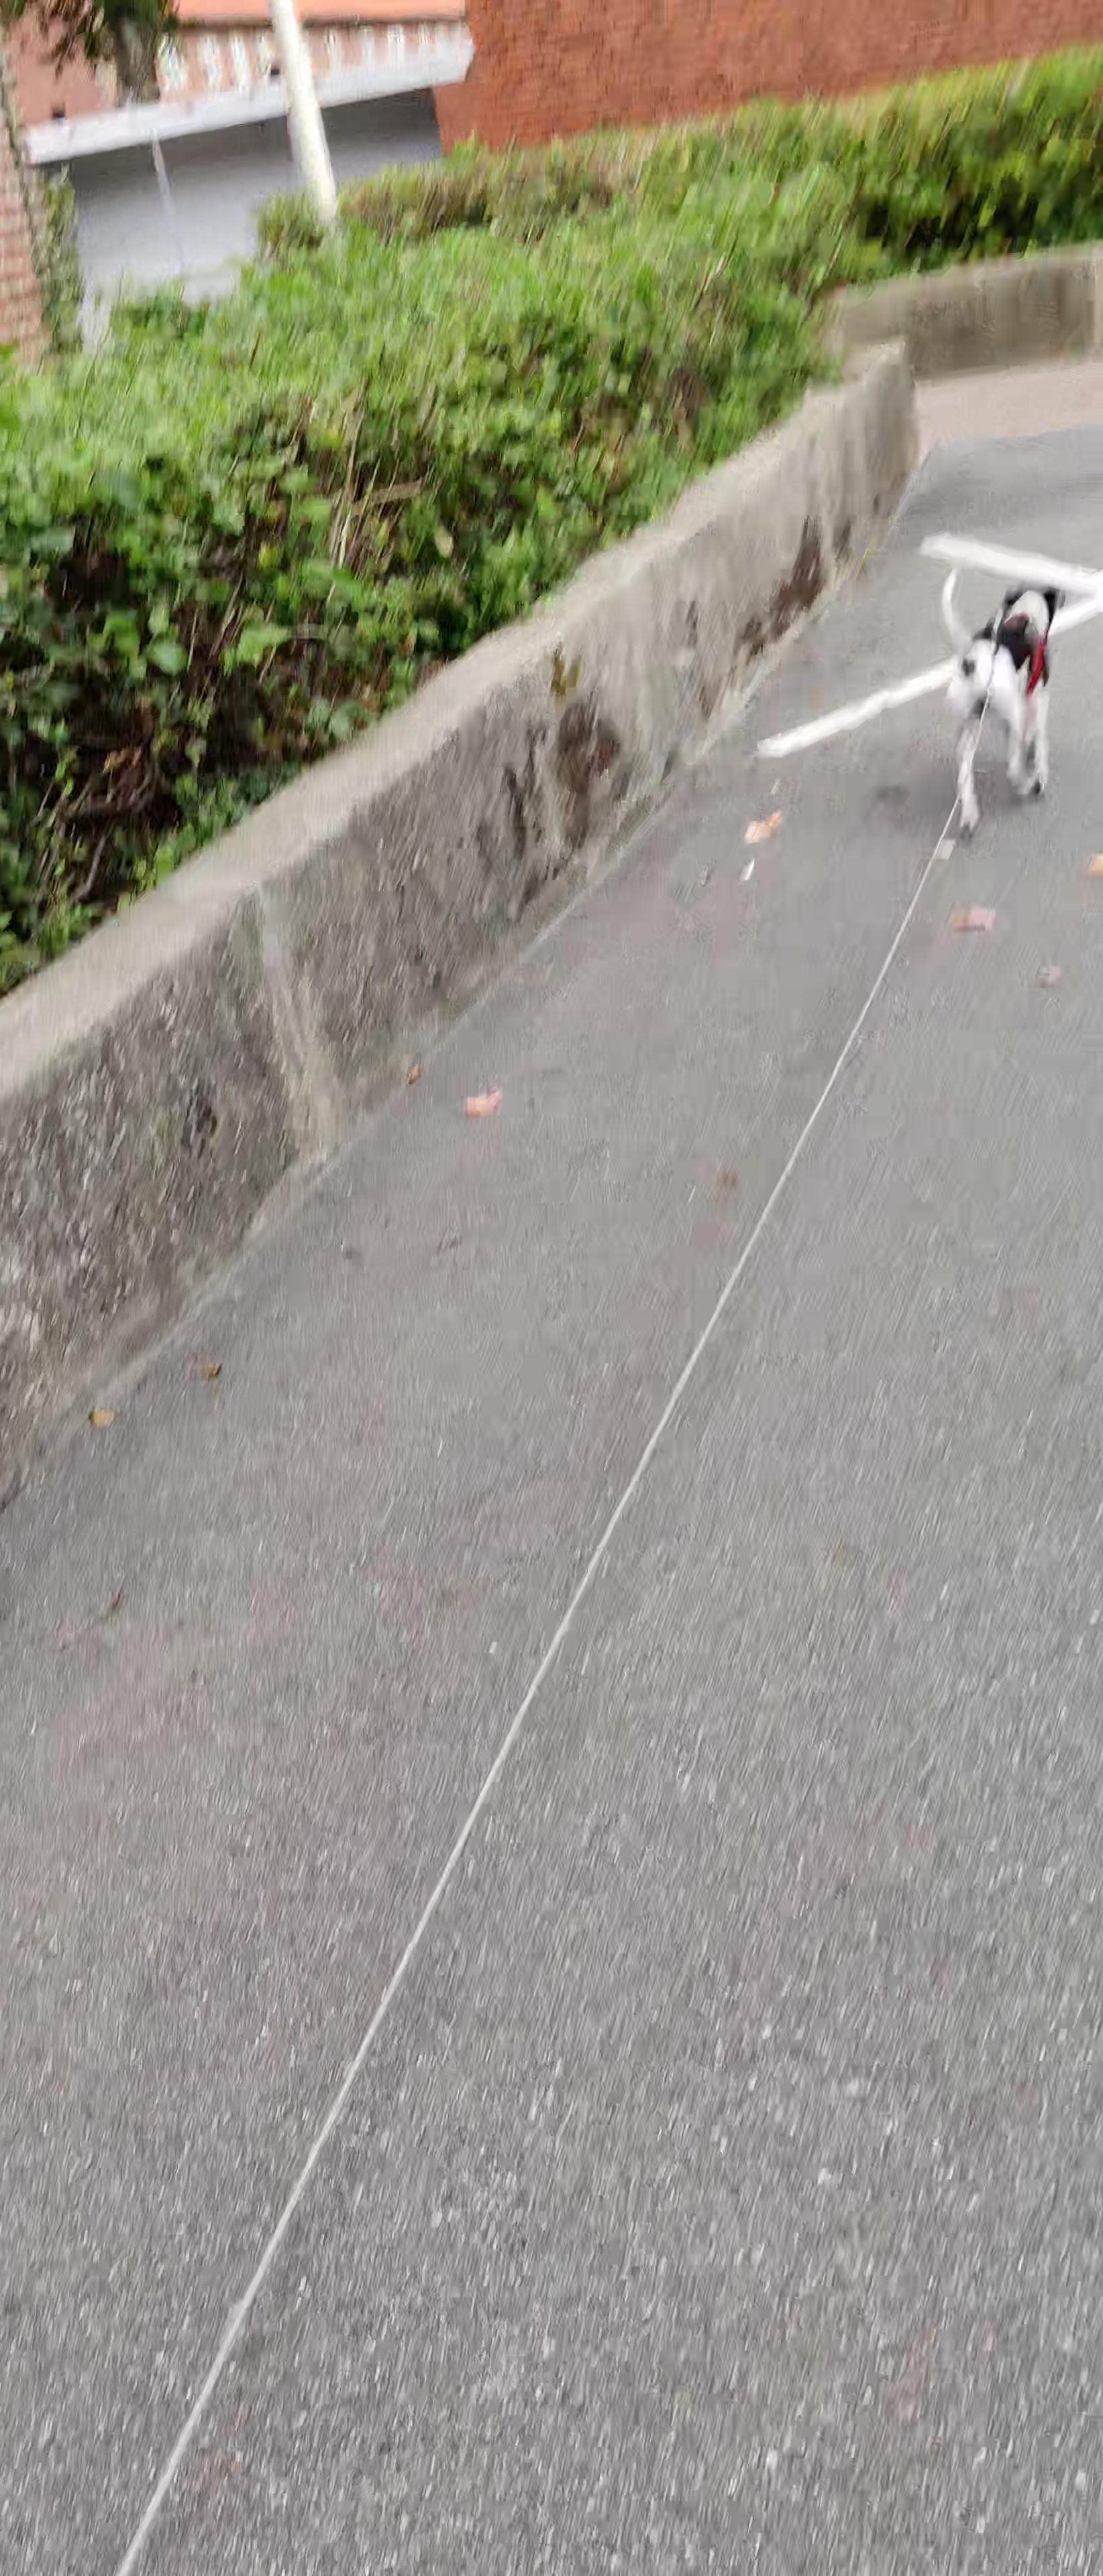Dog: (930, 559, 1073, 835)
